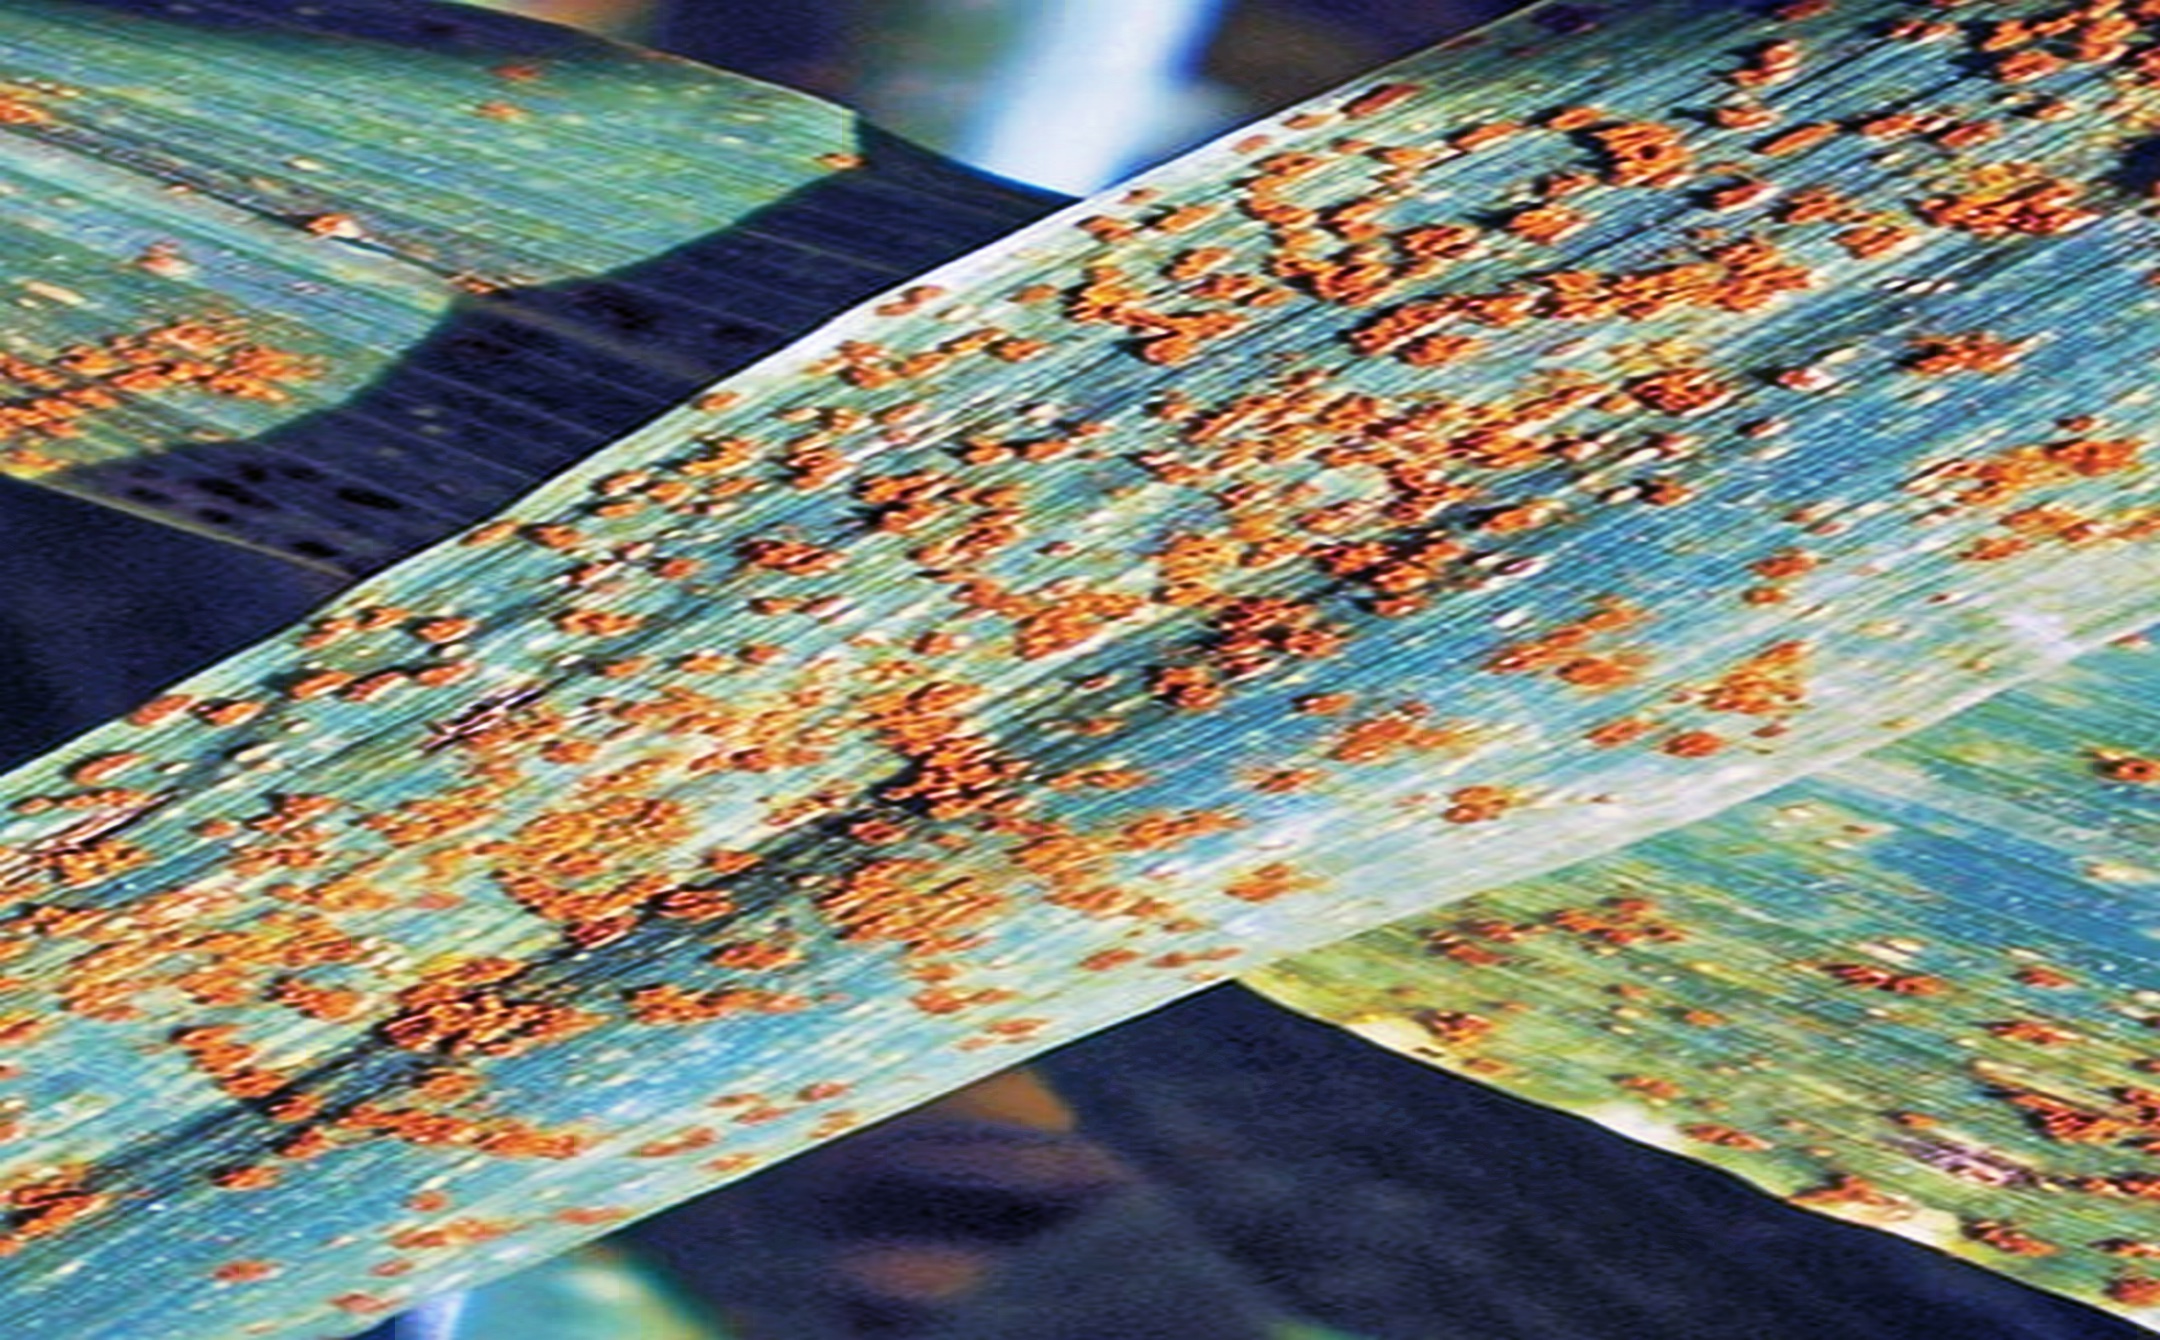Leaf Rust: (1373, 2, 2131, 787)
